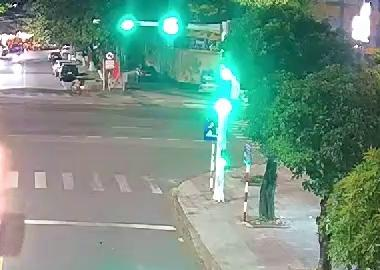green_light: (212, 57, 241, 117), (114, 13, 139, 40), (159, 12, 182, 38)
stop_line: (2, 216, 181, 232)
